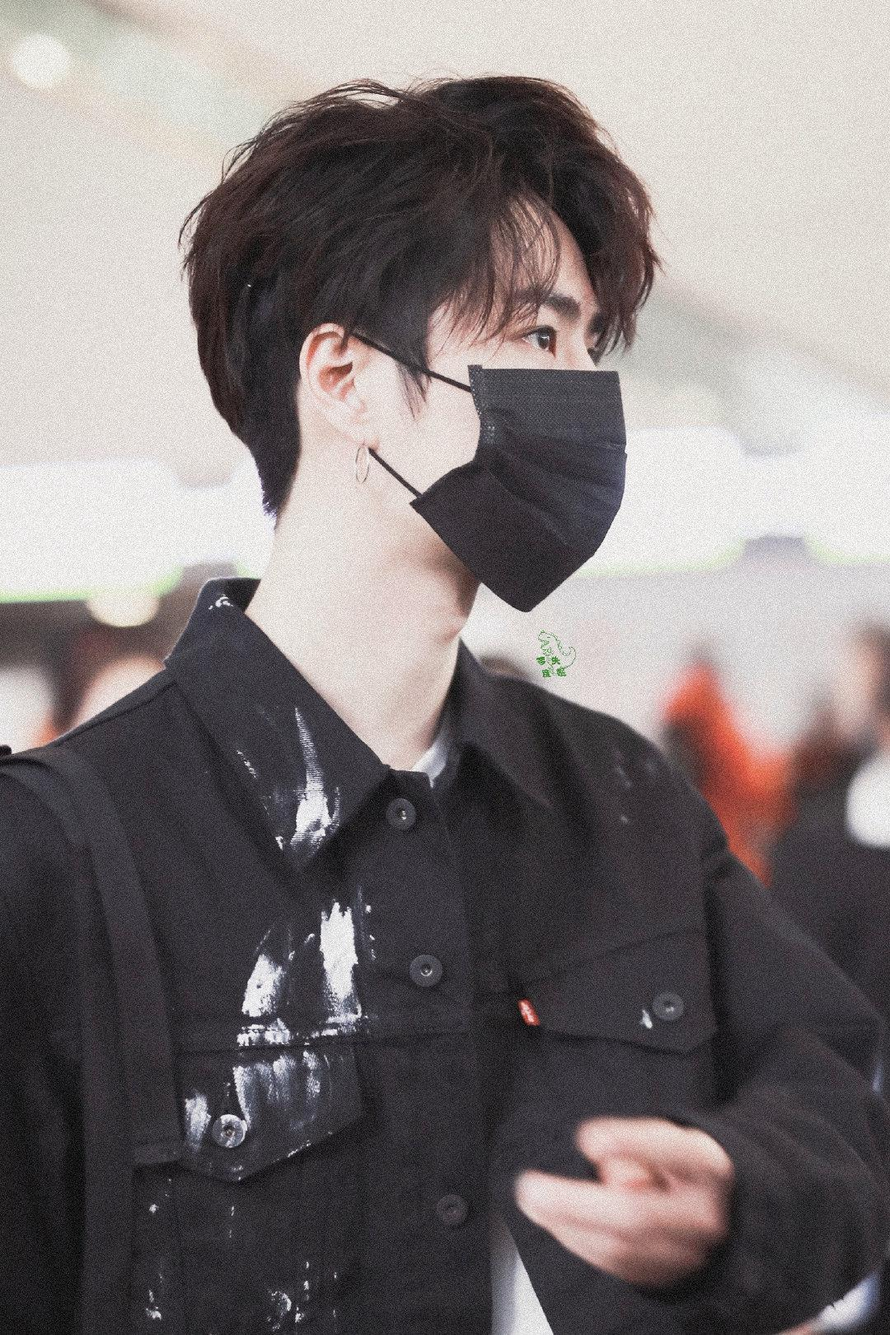OK: (418, 253, 627, 612)
